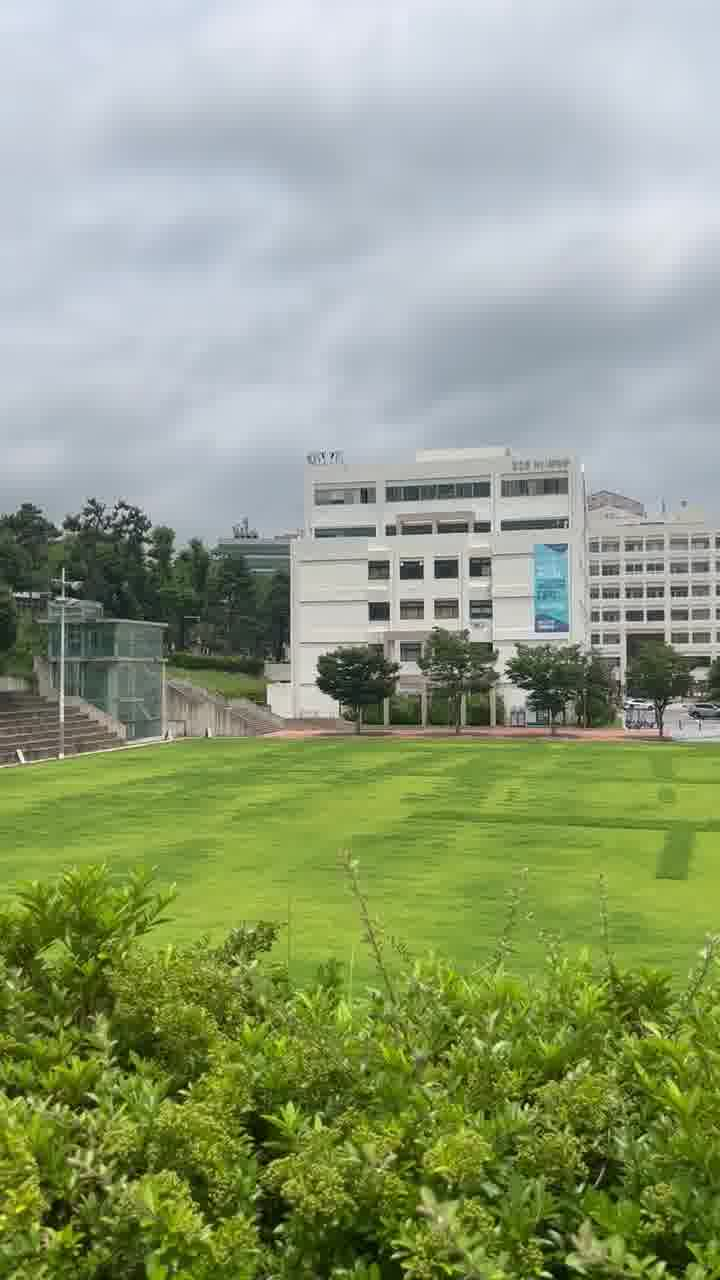low: (294, 456, 586, 652)
